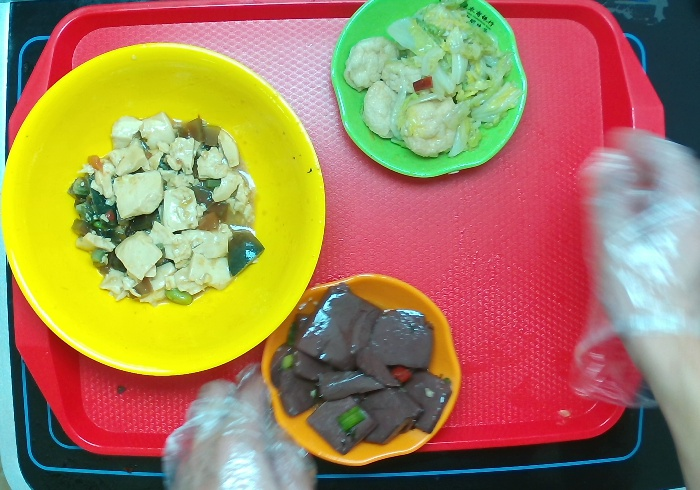YKMZ-Huang_Se_Tang_Wan: (4, 44, 328, 376)
YKMZ-Ju_Se_Ao_Bian_Wan: (260, 271, 461, 473)
YKMZ-Lv_Se_Ao_Bian_Wan: (330, 1, 528, 184)
